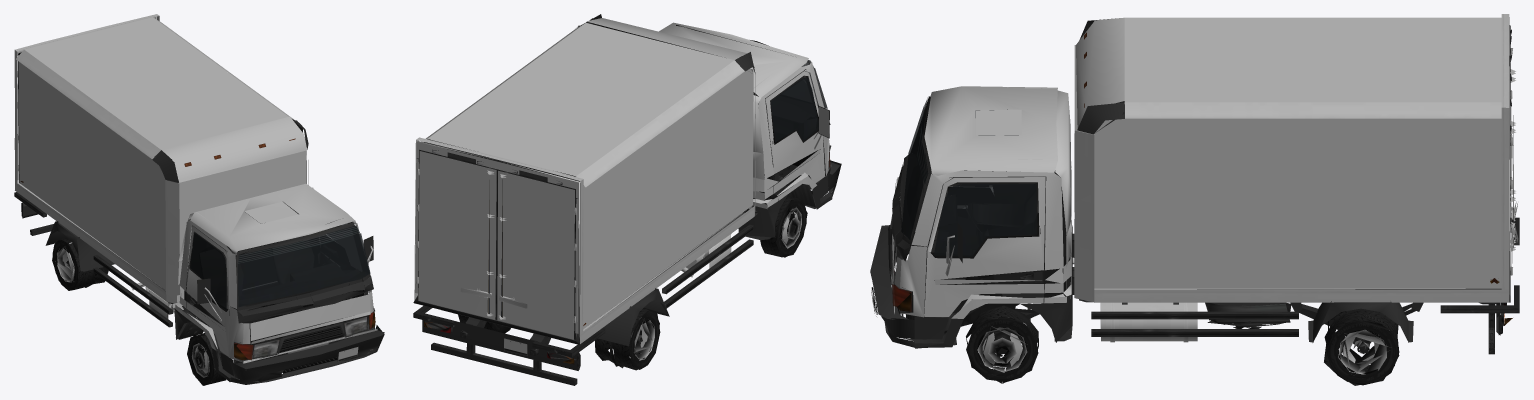
Rendered from lct-3000-95-lite.glb.
3 views of the same model, side by side, from view 1: azimuth 30°, elevation 25°; view 2: azimuth 150°, elevation 25°; view 3: azimuth 270°, elevation 25° (orthographic). The views are drawn at different scales.
Visible parts, largest first — view 1: LCT300095_Blinkers_UCB_Lights_and_Glass_0; view 2: LCT300095_Blinkers_UCB_Lights_and_Glass_0; view 3: LCT300095_Blinkers_UCB_Lights_and_Glass_0.
Part boxes in pixels (box(x1,y1,x2,y2)): LCT300095_Blinkers_UCB_Lights_and_Glass_0: box(14, 14, 384, 385); LCT300095_Blinkers_UCB_Lights_and_Glass_0: box(413, 14, 841, 385); LCT300095_Blinkers_UCB_Lights_and_Glass_0: box(870, 14, 1519, 385).
Size of the model in its own units: 1.94 by 2.16 by 4.5.
Materials: 8 (7 with a texture image).
